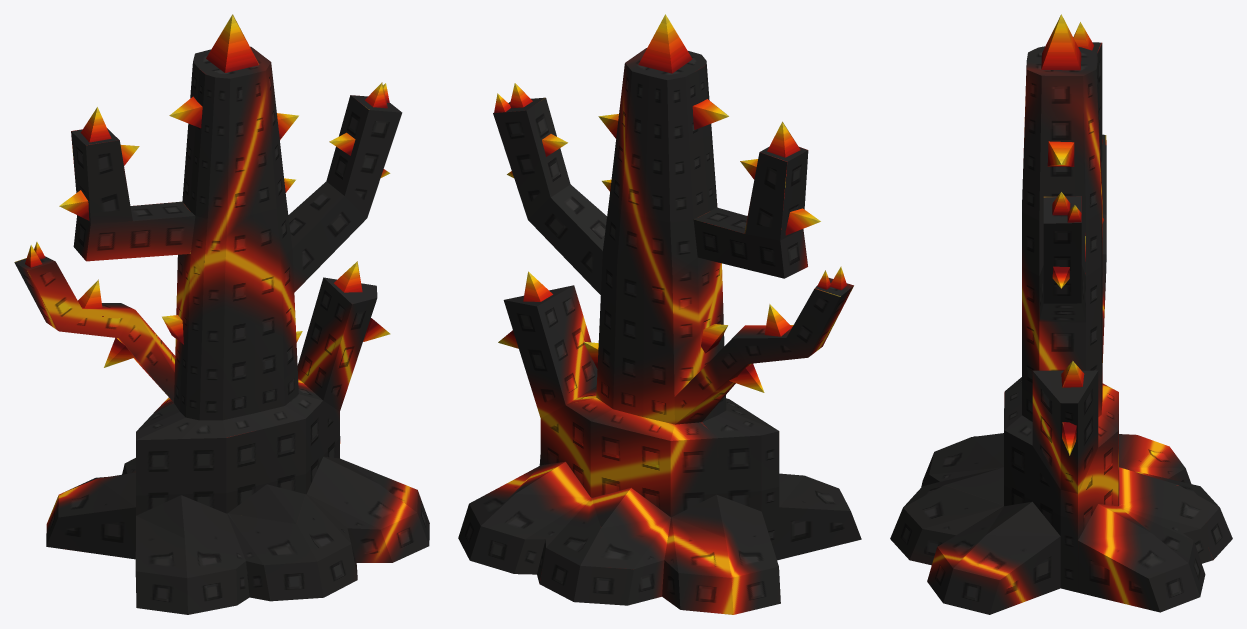
File: LavaCactusStudModel.fbx
The picture shows the model from 3 angles, left to right: view 1: azimuth 30°, elevation 25°; view 2: azimuth 150°, elevation 25°; view 3: azimuth 270°, elevation 25°; orthographic projection.
Visible parts, largest first — view 1: LavaCactus; view 2: LavaCactus; view 3: LavaCactus.
Boxes of the visible parts, <box> form: LavaCactus: <box>14,14,429,614</box>; LavaCactus: <box>458,14,861,614</box>; LavaCactus: <box>890,14,1232,614</box>.
Size of the model in its own units: 329 by 458 by 272.
1 material, 1 textured.
